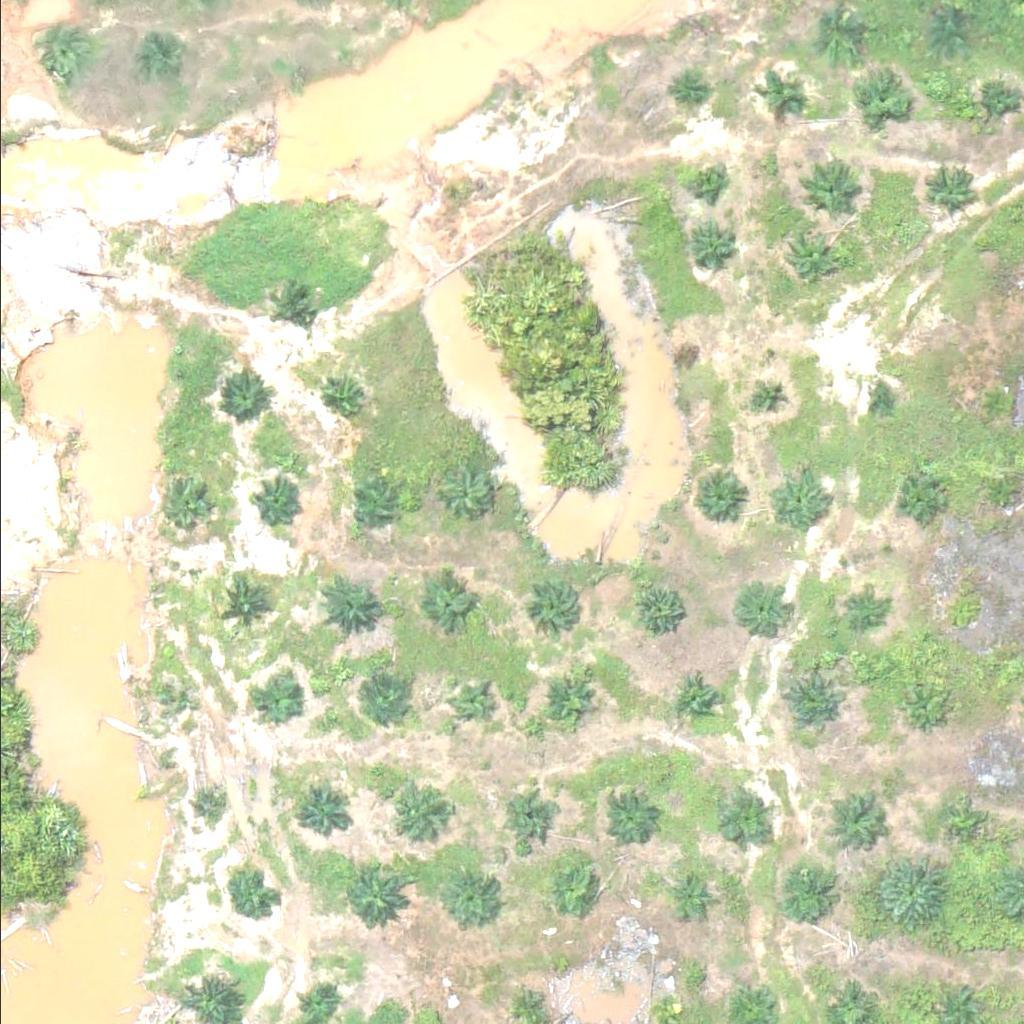Kelapa_Sawit: (769, 857, 845, 932), (873, 857, 949, 932), (827, 786, 890, 849), (313, 574, 376, 637), (781, 671, 844, 734), (780, 225, 843, 288), (347, 865, 410, 927), (384, 783, 447, 845), (437, 862, 500, 924), (684, 465, 747, 527), (542, 669, 605, 731), (766, 469, 829, 531), (798, 159, 861, 221), (258, 672, 309, 722), (357, 676, 408, 726), (420, 574, 471, 624), (734, 585, 785, 635), (435, 468, 486, 518), (352, 479, 403, 529), (254, 479, 305, 529), (215, 579, 266, 629), (633, 582, 684, 632), (669, 673, 720, 723), (897, 475, 948, 525), (293, 787, 343, 837), (226, 868, 276, 918), (509, 794, 559, 844), (715, 797, 765, 847), (605, 793, 655, 843), (549, 860, 599, 910), (531, 579, 581, 629), (215, 370, 265, 420), (32, 29, 82, 79), (137, 39, 187, 89), (154, 481, 204, 531), (319, 373, 369, 423), (263, 282, 313, 332), (963, 76, 1013, 126), (854, 74, 904, 124), (921, 163, 971, 213), (685, 223, 735, 273), (804, 12, 854, 62), (671, 875, 709, 913), (841, 588, 879, 626), (761, 73, 799, 111), (670, 74, 708, 112), (687, 161, 725, 199), (898, 693, 936, 730), (454, 682, 492, 719), (750, 380, 788, 417), (975, 384, 1012, 422), (928, 14, 966, 51), (980, 477, 1018, 514), (946, 815, 972, 840), (198, 793, 223, 818), (656, 996, 681, 1021), (866, 386, 891, 411), (164, 698, 189, 723)
